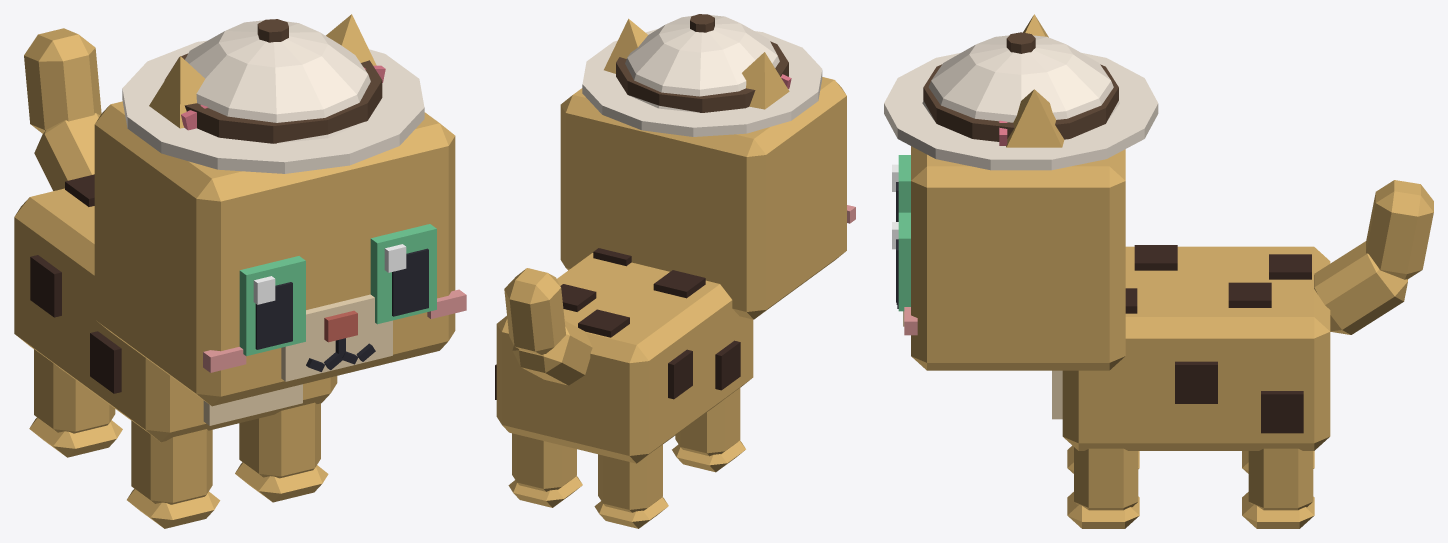
The model's file is CatCafe_Cat_Bengal.glb.
3 views of the same model, side by side, from view 1: azimuth 30°, elevation 25°; view 2: azimuth 150°, elevation 25°; view 3: azimuth 270°, elevation 25° (orthographic). The views are drawn at different scales.
Parts seen in each view (by area): view 1: CatCafe_Cat_Bengal_Head, CatCafe_Cat_Bengal_Prop, CatCafe_Cat_Bengal_Body, CatCafe_Cat_Bengal_Tail, CatCafe_Cat_Bengal_LegF2, CatCafe_Cat_Bengal_LegF1, CatCafe_Cat_Bengal_Eye2, CatCafe_Cat_Bengal_LegB2, CatCafe_Cat_Bengal_Eye1, CatCafe_Cat_Bengal_EarR, CatCafe_Cat_Bengal_EarL; view 2: CatCafe_Cat_Bengal_Head, CatCafe_Cat_Bengal_Body, CatCafe_Cat_Bengal_Prop, CatCafe_Cat_Bengal_Tail, CatCafe_Cat_Bengal_LegB2, CatCafe_Cat_Bengal_LegB1, CatCafe_Cat_Bengal_LegF2, CatCafe_Cat_Bengal_EarR, CatCafe_Cat_Bengal_EarL; view 3: CatCafe_Cat_Bengal_Body, CatCafe_Cat_Bengal_Head, CatCafe_Cat_Bengal_Prop, CatCafe_Cat_Bengal_Tail, CatCafe_Cat_Bengal_LegB1, CatCafe_Cat_Bengal_LegF1, CatCafe_Cat_Bengal_EarL, CatCafe_Cat_Bengal_Eye1, CatCafe_Cat_Bengal_Eye2.
Boxes of the visible parts, x1,y1,x2,y2 form: CatCafe_Cat_Bengal_Head: (94, 101, 466, 406); CatCafe_Cat_Bengal_Prop: (122, 19, 424, 173); CatCafe_Cat_Bengal_Body: (14, 174, 337, 442); CatCafe_Cat_Bengal_Tail: (24, 28, 101, 190); CatCafe_Cat_Bengal_LegF2: (127, 420, 220, 528); CatCafe_Cat_Bengal_LegF1: (235, 402, 328, 502); CatCafe_Cat_Bengal_Eye2: (239, 256, 305, 356); CatCafe_Cat_Bengal_LegB2: (29, 349, 122, 457); CatCafe_Cat_Bengal_Eye1: (370, 224, 436, 324); CatCafe_Cat_Bengal_EarR: (149, 56, 207, 130); CatCafe_Cat_Bengal_EarL: (326, 14, 385, 82); CatCafe_Cat_Bengal_Head: (560, 77, 855, 319); CatCafe_Cat_Bengal_Body: (495, 248, 753, 463); CatCafe_Cat_Bengal_Prop: (582, 14, 822, 136); CatCafe_Cat_Bengal_Tail: (504, 268, 592, 385); CatCafe_Cat_Bengal_LegB2: (594, 444, 668, 528); CatCafe_Cat_Bengal_LegB1: (508, 433, 582, 507); CatCafe_Cat_Bengal_LegF2: (672, 388, 745, 472); CatCafe_Cat_Bengal_EarR: (742, 52, 791, 109); CatCafe_Cat_Bengal_EarL: (604, 18, 647, 73); CatCafe_Cat_Bengal_Body: (1052, 245, 1330, 450); CatCafe_Cat_Bengal_Head: (896, 146, 1125, 370); CatCafe_Cat_Bengal_Prop: (884, 32, 1158, 170); CatCafe_Cat_Bengal_Tail: (1314, 180, 1433, 334); CatCafe_Cat_Bengal_LegB1: (1242, 448, 1314, 528); CatCafe_Cat_Bengal_LegF1: (1067, 447, 1139, 528); CatCafe_Cat_Bengal_EarL: (999, 89, 1064, 147); CatCafe_Cat_Bengal_Eye1: (892, 212, 910, 311); CatCafe_Cat_Bengal_Eye2: (892, 155, 910, 221).
Bounding box in the file's own units: 1 × 1.88 × 2.05.
1 material, 1 textured.
